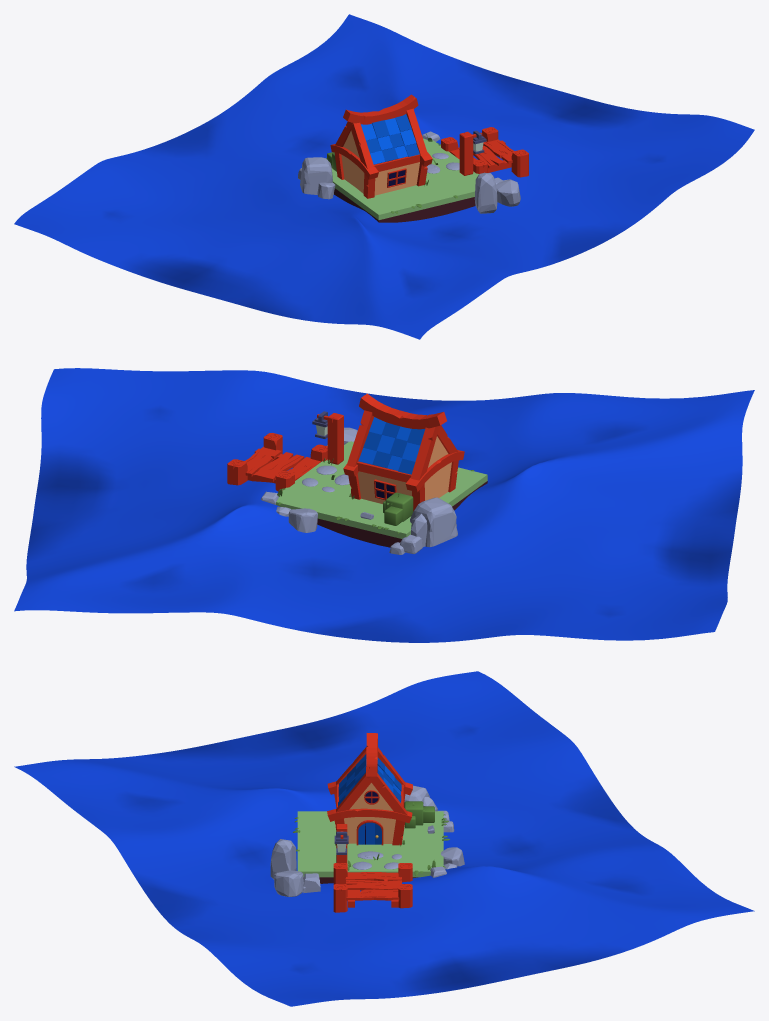
Rendered from house.glb.
3 views of the same model, one above another, from view 1: azimuth 30°, elevation 25°; view 2: azimuth 150°, elevation 25°; view 3: azimuth 270°, elevation 25° (orthographic). The views are drawn at different scales.
Visible parts, largest first — view 1: Sea, Base, PAREDES, Cubo.056, Cubo.004, Cubo.103, Cubo.046, Cubo.102; view 2: Sea, Base, PAREDES, Cubo.056, Cubo.004, Cubo.046, Cubo.006, Cubo.041, Cubo.026, Cubo.005, Cubo.055, Cubo.038 (+3 smaller); view 3: Sea, Base, PAREDES, Cubo.103, Cubo.001, Cubo.102, puerta, Cubo.038.
Part boxes in pixels (x1=…): Sea: x1=14, y1=14, x2=754, y2=339; Base: x1=331, y1=138, x2=478, y2=222; PAREDES: x1=341, y1=130, x2=419, y2=195; Cubo.056: x1=300, y1=157, x2=333, y2=194; Cubo.004: x1=343, y1=94, x2=418, y2=124; Cubo.103: x1=474, y1=172, x2=497, y2=213; Cubo.046: x1=459, y1=131, x2=473, y2=175; Cubo.102: x1=496, y1=179, x2=520, y2=206; Sea: x1=14, y1=368, x2=754, y2=642; Base: x1=276, y1=441, x2=487, y2=547; PAREDES: x1=357, y1=436, x2=451, y2=503; Cubo.056: x1=410, y1=497, x2=457, y2=547; Cubo.004: x1=359, y1=393, x2=446, y2=429; Cubo.046: x1=327, y1=413, x2=343, y2=464; Cubo.006: x1=410, y1=426, x2=439, y2=480; Cubo.041: x1=255, y1=452, x2=304, y2=481; Cubo.026: x1=405, y1=450, x2=464, y2=492; Cubo.005: x1=347, y1=410, x2=373, y2=466; Cubo.055: x1=288, y1=508, x2=317, y2=532; Cubo.038: x1=244, y1=446, x2=281, y2=476; Sea: x1=14, y1=671, x2=754, y2=1006; Base: x1=297, y1=811, x2=443, y2=883; PAREDES: x1=344, y1=783, x2=395, y2=843; Cubo.103: x1=270, y1=839, x2=296, y2=879; Cubo.001: x1=327, y1=808, x2=412, y2=823; Cubo.102: x1=274, y1=870, x2=303, y2=896; puerta: x1=356, y1=820, x2=383, y2=845; Cubo.038: x1=346, y1=889, x2=399, y2=900.
Bounding box in the file's own units: 70.84 × 10.61 × 66.1.
